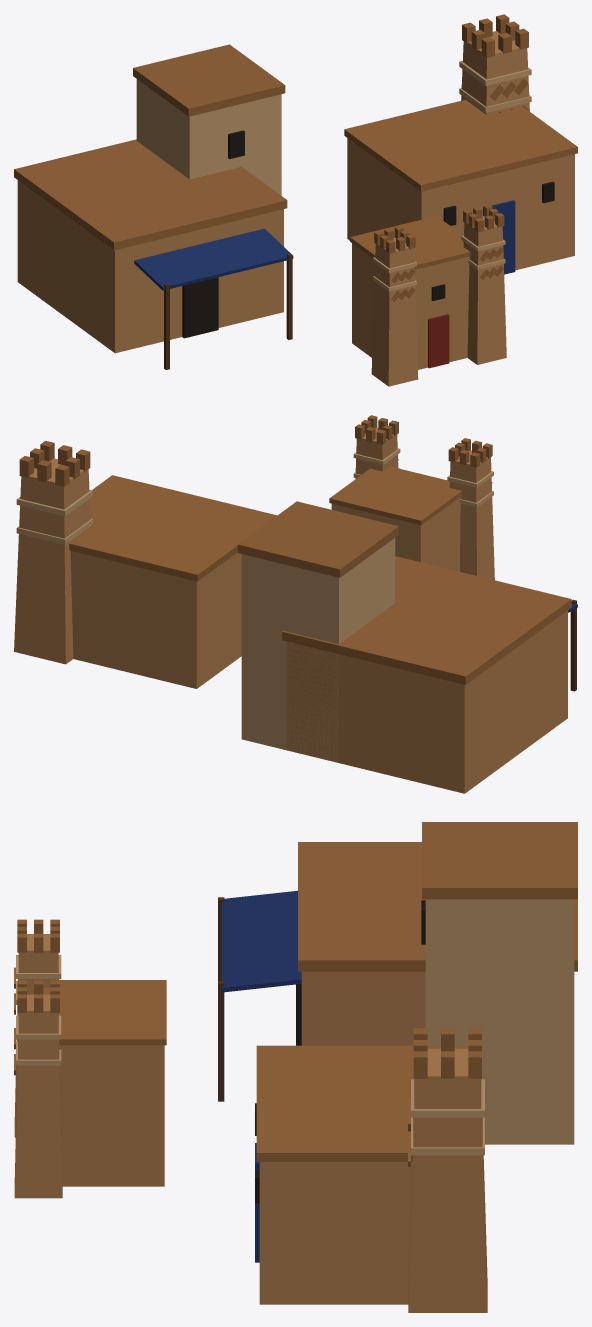
The model's file is fennec_compound.glb.
3 views of the same model, one above another, from view 1: azimuth 30°, elevation 25°; view 2: azimuth 150°, elevation 25°; view 3: azimuth 270°, elevation 25° (orthographic). The views are drawn at different scales.
Parts seen in each view (by area): view 1: fennec_compound; view 2: fennec_compound; view 3: fennec_compound.
Part boxes in pixels (x1,y1,x2,y2): fennec_compound: [14, 14, 577, 386]; fennec_compound: [14, 415, 577, 793]; fennec_compound: [14, 822, 577, 1312].
Size of the model in its own units: 5.99 by 2.3 by 4.55.
